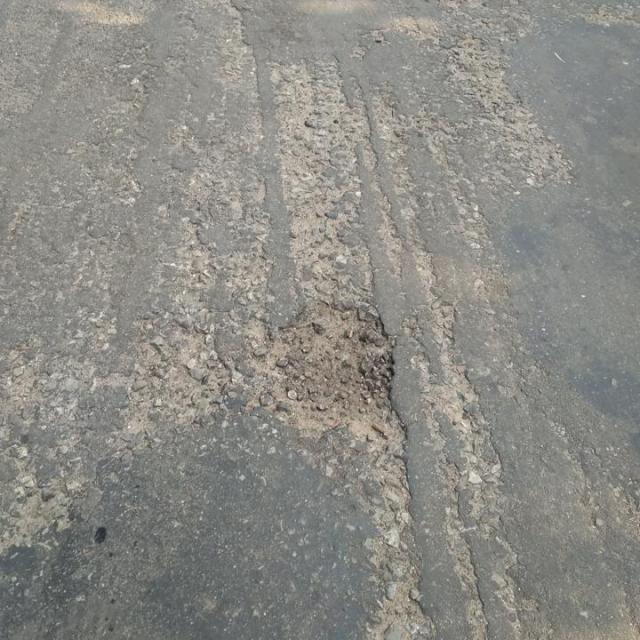pothole: (270, 297, 412, 449)
